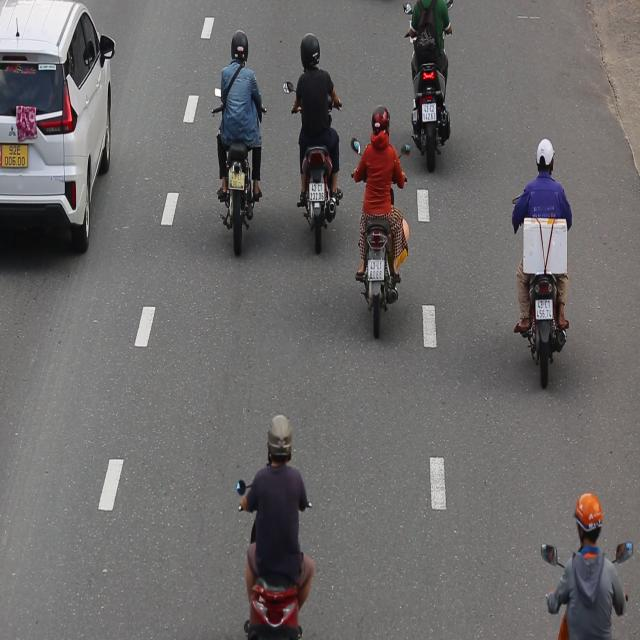motorbike: (509, 132, 579, 400), (350, 103, 412, 345), (280, 32, 346, 256), (210, 27, 268, 262)
